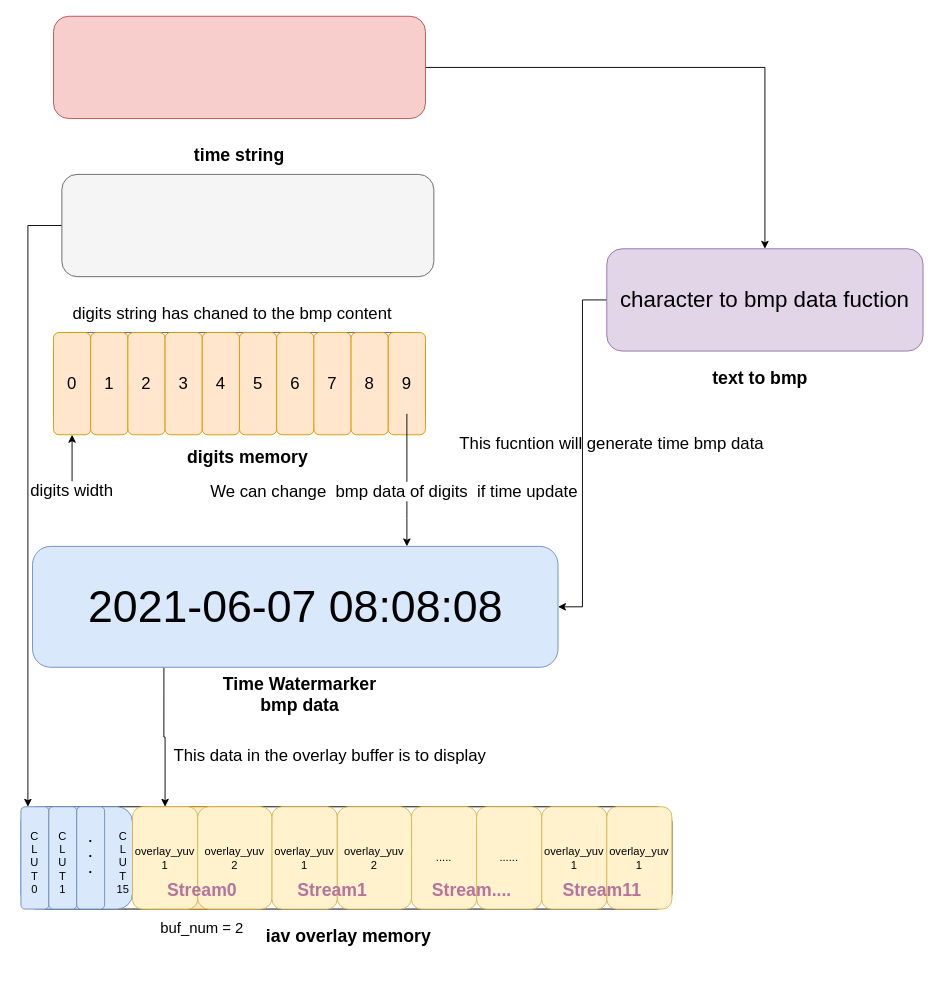
This 939x981 diagram has some shape labels left out. The centre of each missing label's shape, as x and y in pixels:
"TEXT CLUT Data" belongs at point 247,225.
"Timestamp" belongs at point 239,67.
